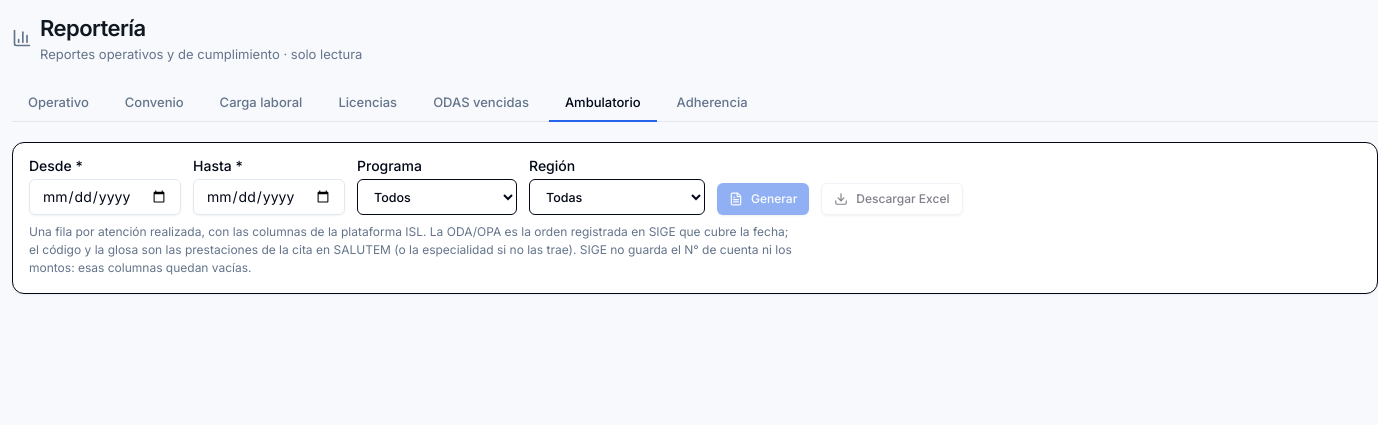
Test case: ReportesPage — pestaña Ambulatorio › sin atenciones muestra el estado vacío
This screenshot has width=1378, height=425.
Type "2031-03-01" into the date field labelled "Desde *" at coordinates (105, 197), box [29,179,181,215]
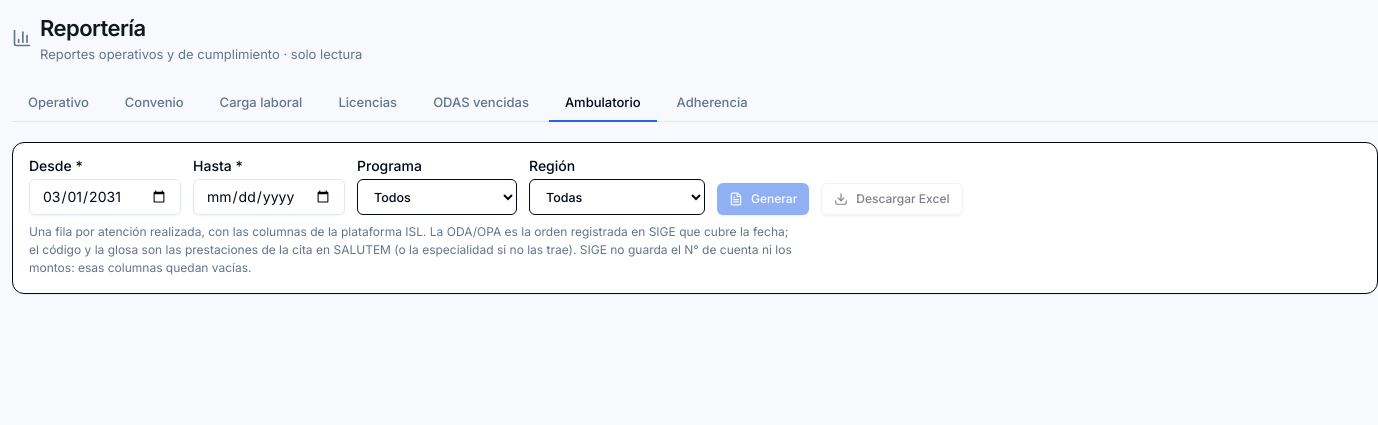
Type "2031-03-31" into the date field labelled "Hasta *" at coordinates (269, 197), box [193,179,345,215]
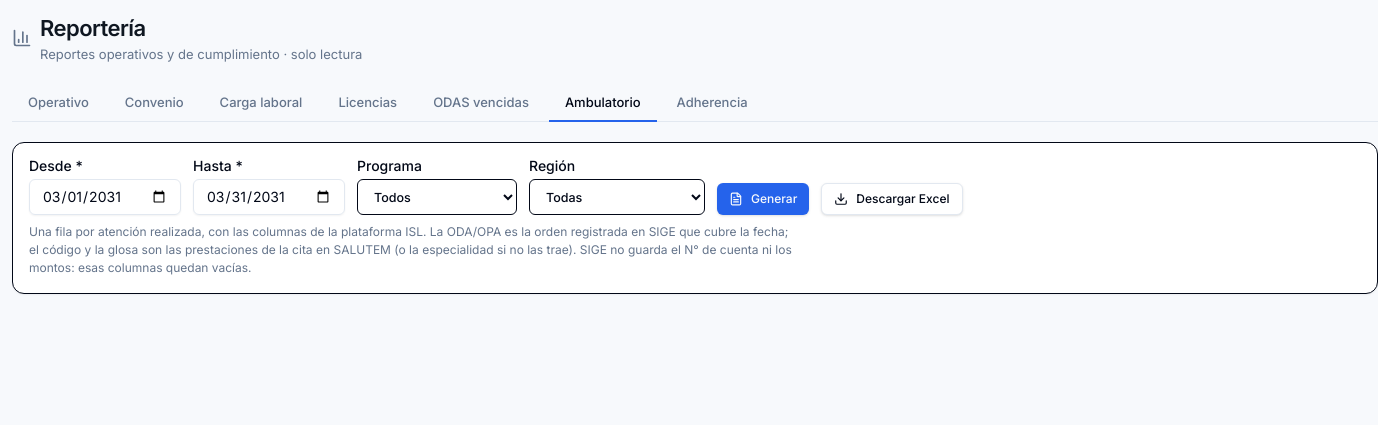
Click the button with test id "btn-generar-reporte" at coordinates (763, 199), box [717,183,809,215]
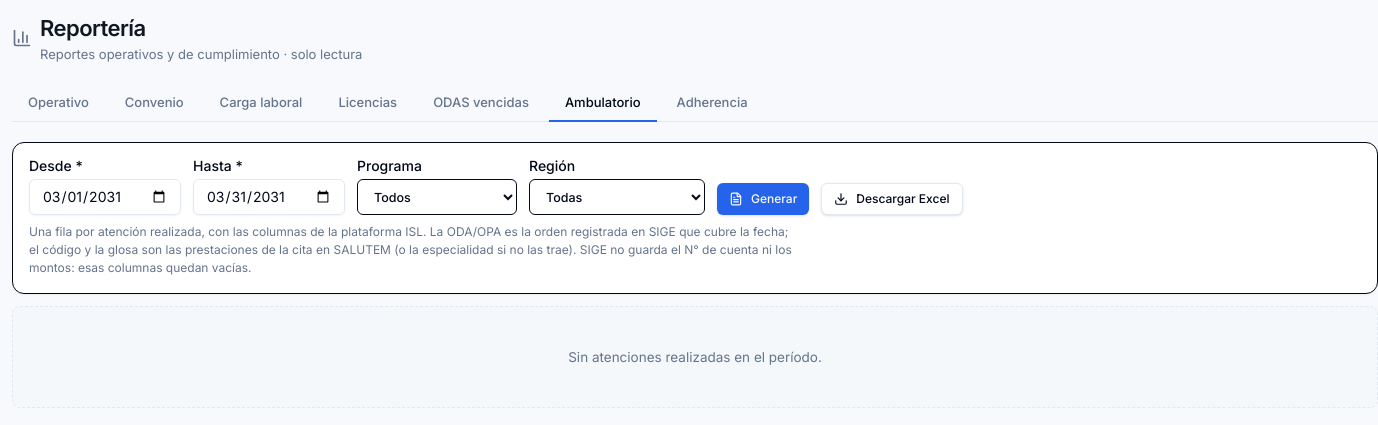
Expected: the text "Sin atenciones realizadas en el período." is shown, [568,349,822,365]
